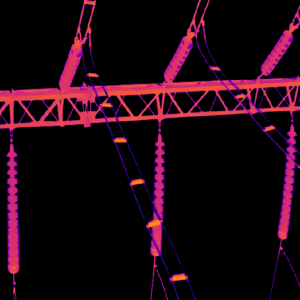insulator: (276, 123, 297, 239), (5, 141, 20, 275), (149, 131, 165, 256), (260, 28, 293, 77), (162, 35, 193, 83), (58, 41, 82, 89)
